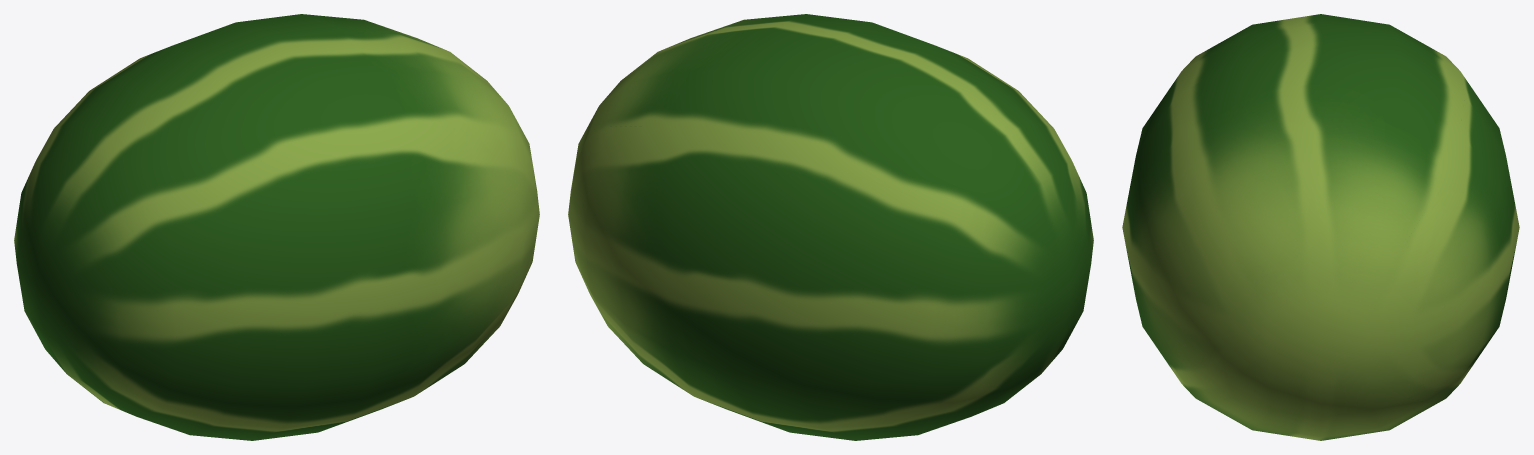
File: watermelon.fbx
The picture shows the model from 3 angles, left to right: view 1: azimuth 30°, elevation 25°; view 2: azimuth 150°, elevation 25°; view 3: azimuth 270°, elevation 25°; orthographic projection. The views are drawn at different scales.
Parts seen in each view (by area): view 1: Cube.011; view 2: Cube.011; view 3: Cube.011.
Part boxes in pixels (x1,y1,x2,y2): Cube.011: (14,14,539,440); Cube.011: (568,14,1093,440); Cube.011: (1122,14,1519,440).
Size of the model in its own units: 56.81 by 42.43 by 42.43.
1 material, 1 textured.
